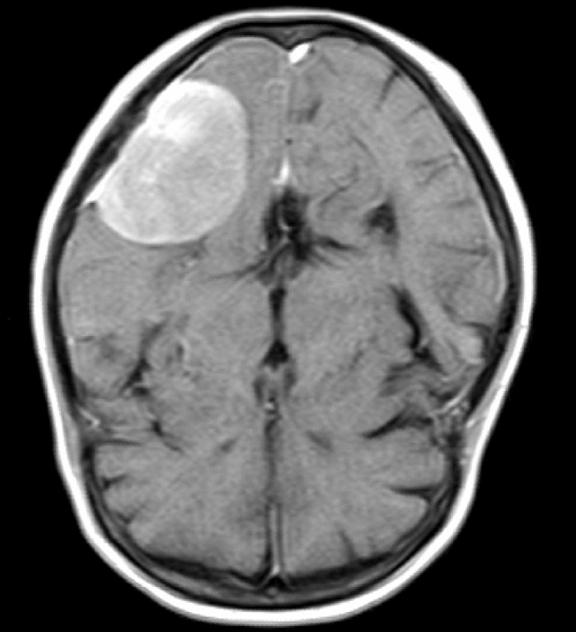Tumour-Meningioma: (82, 70, 259, 283)
